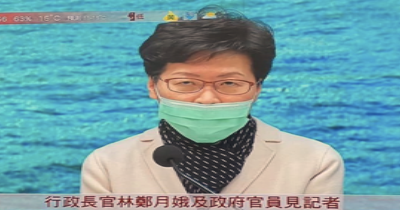mask_weared_incorrect: (156, 69, 257, 144)
